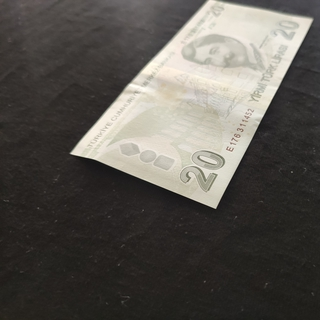20TLBack: (69, 0, 314, 209)
